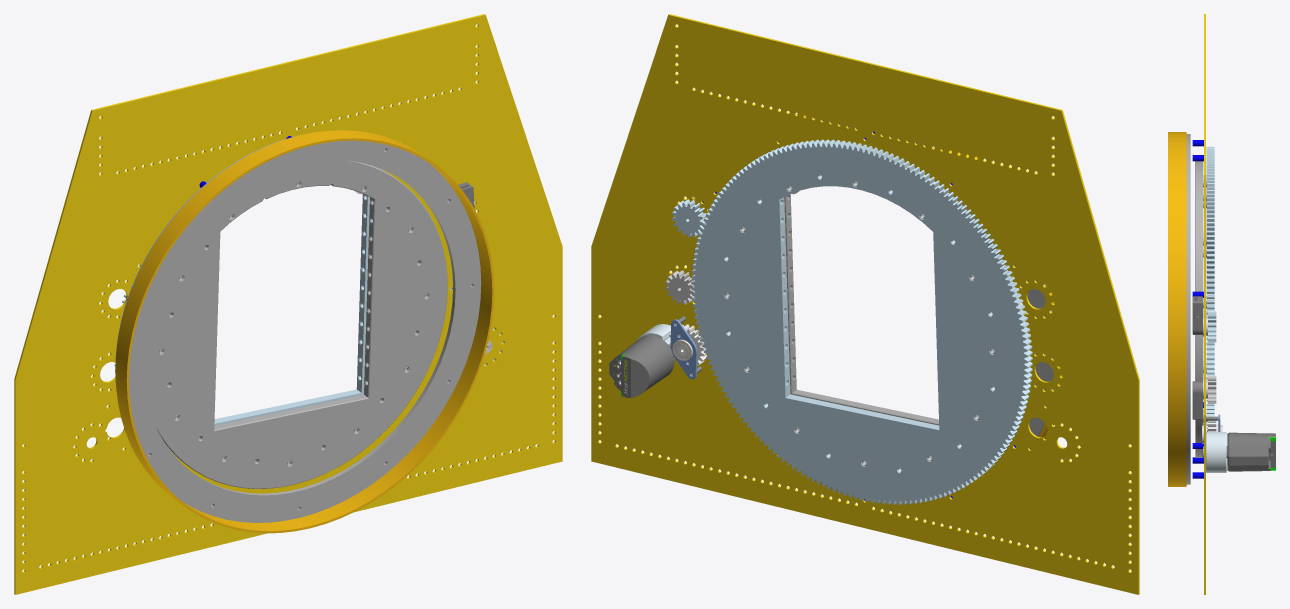
File: turret.gltf
3 views of the same model, side by side, from view 1: azimuth 30°, elevation 25°; view 2: azimuth 150°, elevation 25°; view 3: azimuth 270°, elevation 25° (orthographic). The views are drawn at different scales.
Visible parts, largest first — view 1: Part 4, Part 3, Part 11, Part 10, Spur gear (195 teeth); view 2: Part 4, Spur gear (195 teeth), Kraken X60 Brushless Motor, Part 3, Part 11, Spur gear (17 teeth), Part 7, Spur gear (15 teeth); view 3: Part 10, Spur gear (195 teeth), Kraken X60 Brushless Motor, Part 3, Part 11, Part 4, Part 9, WCP Through Bore Encoder (×2), Spur gear (17 teeth), Spur gear (15 teeth).
Boxes of the visible parts, left/top/right/bottom form: Part 4: left=14, top=14, right=562, bottom=594; Part 3: left=143, top=160, right=447, bottom=488; Part 11: left=115, top=135, right=481, bottom=522; Part 10: left=115, top=130, right=494, bottom=533; Spur gear (195 teeth): left=114, top=194, right=452, bottom=425; Part 4: left=591, top=14, right=1139, bottom=594; Spur gear (195 teeth): left=691, top=139, right=1032, bottom=504; Kraken X60 Brushless Motor: left=609, top=335, right=674, bottom=397; Part 3: left=784, top=194, right=939, bottom=425; Part 11: left=778, top=118, right=1054, bottom=449; Spur gear (17 teeth): left=671, top=199, right=706, bottom=237; Part 7: left=670, top=319, right=697, bottom=379; Spur gear (15 teeth): left=665, top=270, right=695, bottom=304; Part 10: left=1168, top=132, right=1186, bottom=486; Spur gear (195 teeth): left=1206, top=146, right=1214, bottom=430; Kraken X60 Brushless Motor: left=1203, top=432, right=1275, bottom=471; Part 3: left=1195, top=161, right=1203, bottom=457; Part 11: left=1186, top=134, right=1190, bottom=484; Part 4: left=1204, top=14, right=1205, bottom=594; Part 9: left=1206, top=432, right=1226, bottom=472; WCP Through Bore Encoder (×2): left=1192, top=296, right=1202, bottom=419; Spur gear (17 teeth): left=1208, top=311, right=1216, bottom=342; Spur gear (15 teeth): left=1208, top=375, right=1216, bottom=403.
Bounding box in the file's own units: 0.8128 × 0.6604 × 0.166.
